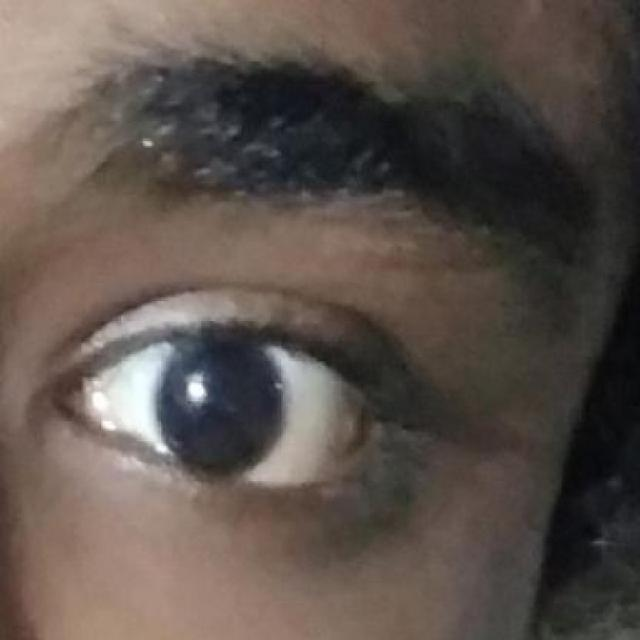awake: (56, 286, 373, 492)
